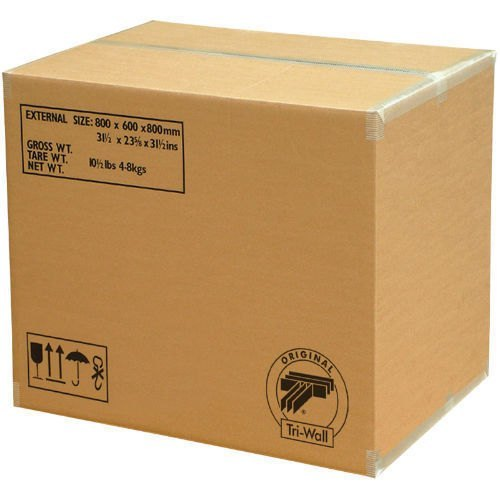stock: (2, 20, 496, 478)
